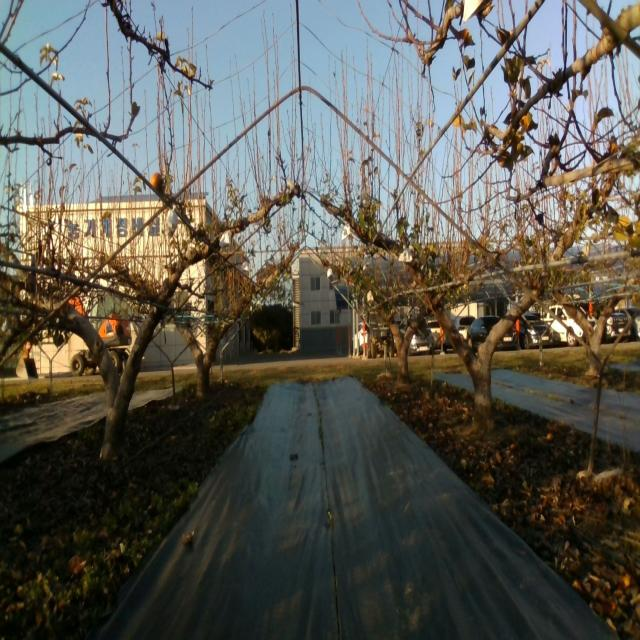pearbags: (166, 204, 179, 240), (218, 231, 232, 249), (398, 245, 412, 262)
